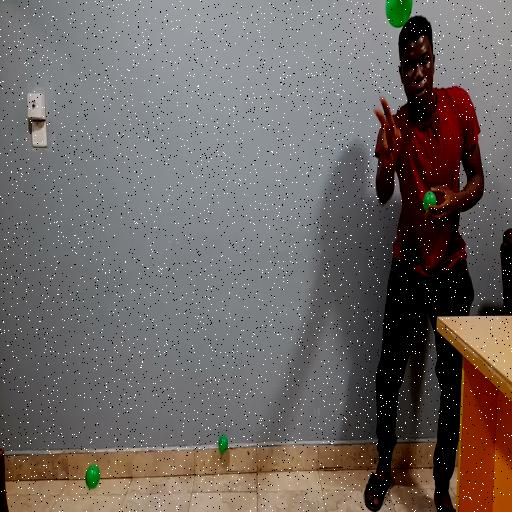plastic-ball: (384, 0, 413, 31)
